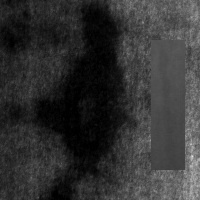inclusion: (151, 40, 185, 170)
patches: (35, 6, 125, 163), (39, 173, 80, 200), (1, 20, 30, 54)
